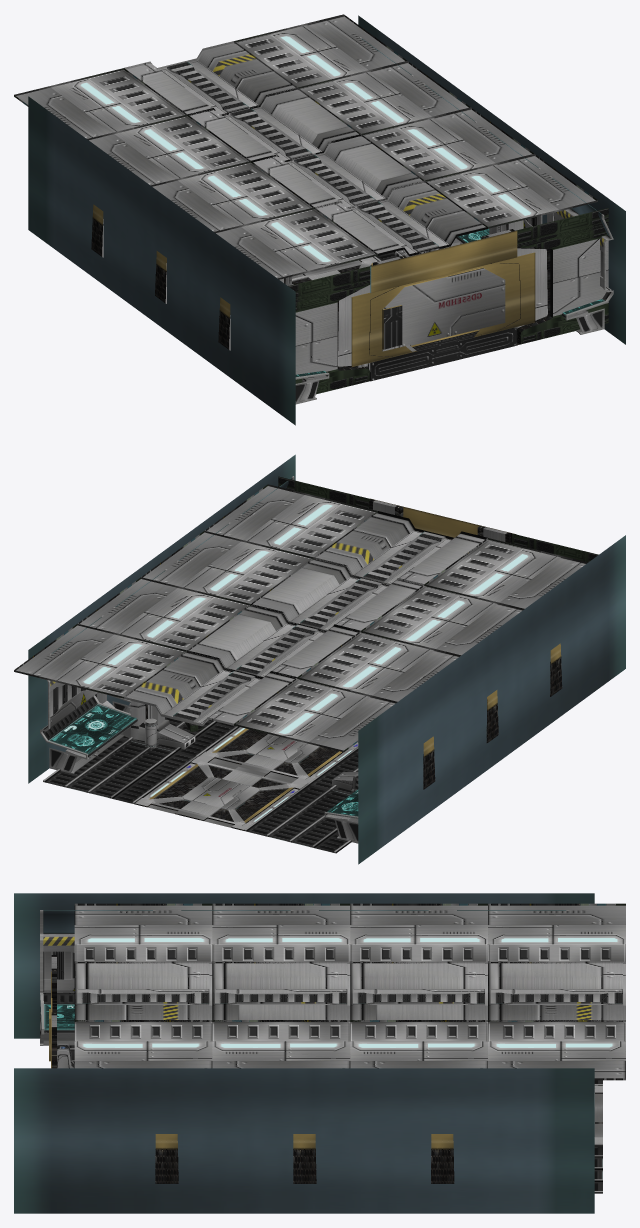
Rendered from SciFi-Showroom 1.fbx.
The picture shows the model from 3 angles, top to bottom: view 1: azimuth 30°, elevation 25°; view 2: azimuth 150°, elevation 25°; view 3: azimuth 270°, elevation 25°; orthographic projection. The views are drawn at different scales.
Parts seen in each view (by area): view 1: pPlane2, Main_Door, Side_Doors, Left_SideCeiling_Tile_20, MainCeiling_Tile_3, Left_SideCeiling_Tile_17, MainCeiling_Tile_6, Left_SideCeiling_Tile_19, Left_SideCeiling_Tile_18, MainCeiling_Tile_4, MainCeiling_Tile_7, Left_SideCeiling_Tile_06 (+8 smaller); view 2: pPlane2, Left_SideCeiling_Tile_17, MainCeiling_Tile_3, Left_SideCeiling_Tile_19, MainCeiling_Tile_6, Left_SideCeiling_Tile_20, Left_SideCeiling_Tile_18, MainCeiling_Tile_4, MainCeiling_Tile_7, MainFloor_Tile_03, Left_SideCeiling_Tile_06, MainCeiling_Tile7 (+11 smaller); view 3: pPlane2, MainCeiling_Tile_3, Left_SideCeiling_Tile_15, Left_SideCeiling_Tile_16, MainCeiling_Tile_6, MainCeiling_Tile_7, Left_SideCeiling_Tile_06, Left_SideCeiling_Tile_14, MainCeiling_Tile_4, Left_SideCeiling_Tile_17, Left_SideCeiling_Tile_19, Left_SideCeiling_Tile_20 (+8 smaller).
Part boxes in pixels (bbox=[...]): pPlane2: bbox=[28, 15, 625, 425]; Main_Door: bbox=[351, 230, 535, 381]; Side_Doors: bbox=[288, 208, 608, 394]; Left_SideCeiling_Tile_20: bbox=[424, 154, 597, 228]; MainCeiling_Tile_3: bbox=[124, 41, 297, 115]; Left_SideCeiling_Tile_17: bbox=[234, 14, 407, 88]; MainCeiling_Tile_6: bbox=[315, 180, 487, 256]; Left_SideCeiling_Tile_19: bbox=[361, 107, 534, 181]; Left_SideCeiling_Tile_18: bbox=[297, 61, 470, 134]; MainCeiling_Tile_4: bbox=[189, 87, 360, 162]; MainCeiling_Tile_7: bbox=[253, 134, 423, 208]; Left_SideCeiling_Tile_06: bbox=[14, 68, 187, 140]; pPlane2: bbox=[28, 454, 625, 864]; Left_SideCeiling_Tile_17: bbox=[14, 624, 186, 698]; MainCeiling_Tile_3: bbox=[124, 650, 297, 726]; Left_SideCeiling_Tile_19: bbox=[141, 530, 314, 604]; MainCeiling_Tile_6: bbox=[314, 511, 487, 585]; Left_SideCeiling_Tile_20: bbox=[205, 484, 377, 557]; Left_SideCeiling_Tile_18: bbox=[77, 577, 250, 651]; MainCeiling_Tile_4: bbox=[188, 604, 360, 678]; MainCeiling_Tile_7: bbox=[251, 557, 423, 631]; MainFloor_Tile_03: bbox=[134, 757, 306, 830]; Left_SideCeiling_Tile_06: bbox=[234, 677, 397, 752]; MainCeiling_Tile7: bbox=[40, 615, 358, 843]; pPlane2: bbox=[14, 893, 594, 1213]; MainCeiling_Tile_3: bbox=[488, 961, 625, 1021]; Left_SideCeiling_Tile_15: bbox=[212, 903, 350, 963]; Left_SideCeiling_Tile_16: bbox=[74, 903, 212, 963]; MainCeiling_Tile_6: bbox=[74, 961, 212, 1021]; MainCeiling_Tile_7: bbox=[212, 961, 350, 1021]; Left_SideCeiling_Tile_06: bbox=[488, 903, 625, 963]; Left_SideCeiling_Tile_14: bbox=[350, 903, 487, 963]; MainCeiling_Tile_4: bbox=[350, 961, 487, 1021]; Left_SideCeiling_Tile_17: bbox=[488, 1020, 625, 1080]; Left_SideCeiling_Tile_19: bbox=[212, 1020, 350, 1068]; Left_SideCeiling_Tile_20: bbox=[74, 1020, 212, 1068].
Bounding box in the file's own units: 1829 × 698 × 2664.
1 material, 1 textured.
